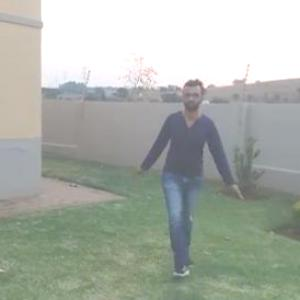land: (139, 79, 239, 286)
